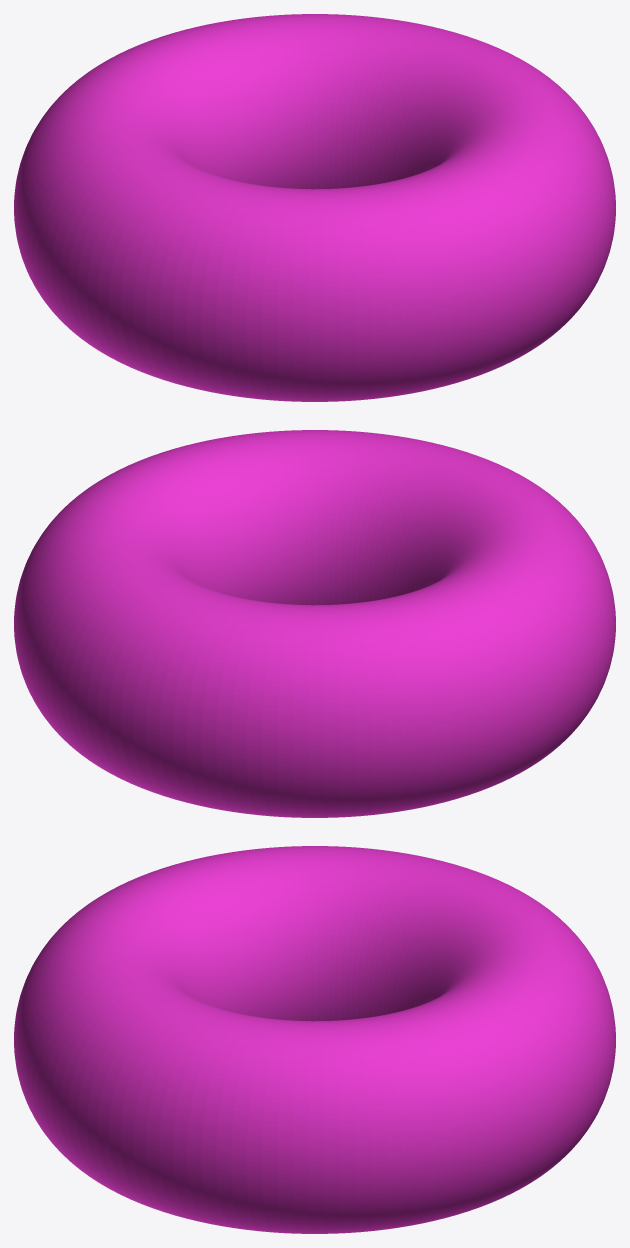
3 views of the same model, one above another, from view 1: azimuth 30°, elevation 25°; view 2: azimuth 150°, elevation 25°; view 3: azimuth 270°, elevation 25° (orthographic).
Visible parts, largest first — view 1: Torus.001; view 2: Torus.001; view 3: Torus.001.
Boxes of the visible parts, bbox=[...] form: Torus.001: bbox=[14, 14, 615, 401]; Torus.001: bbox=[14, 430, 615, 817]; Torus.001: bbox=[14, 846, 615, 1233].
Bounding box in the file's own units: 2.44 × 0.8831 × 2.44.
